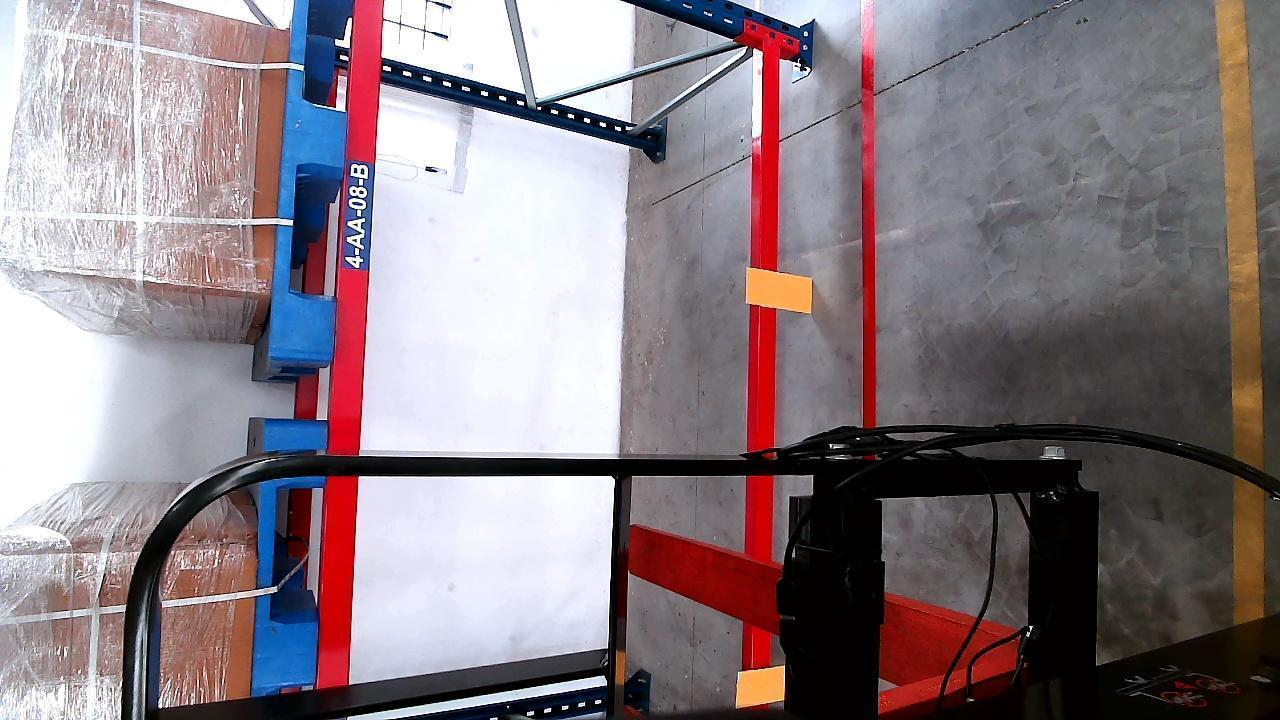red_line: (858, 19, 880, 419)
yellow_line: (1214, 0, 1269, 627)
